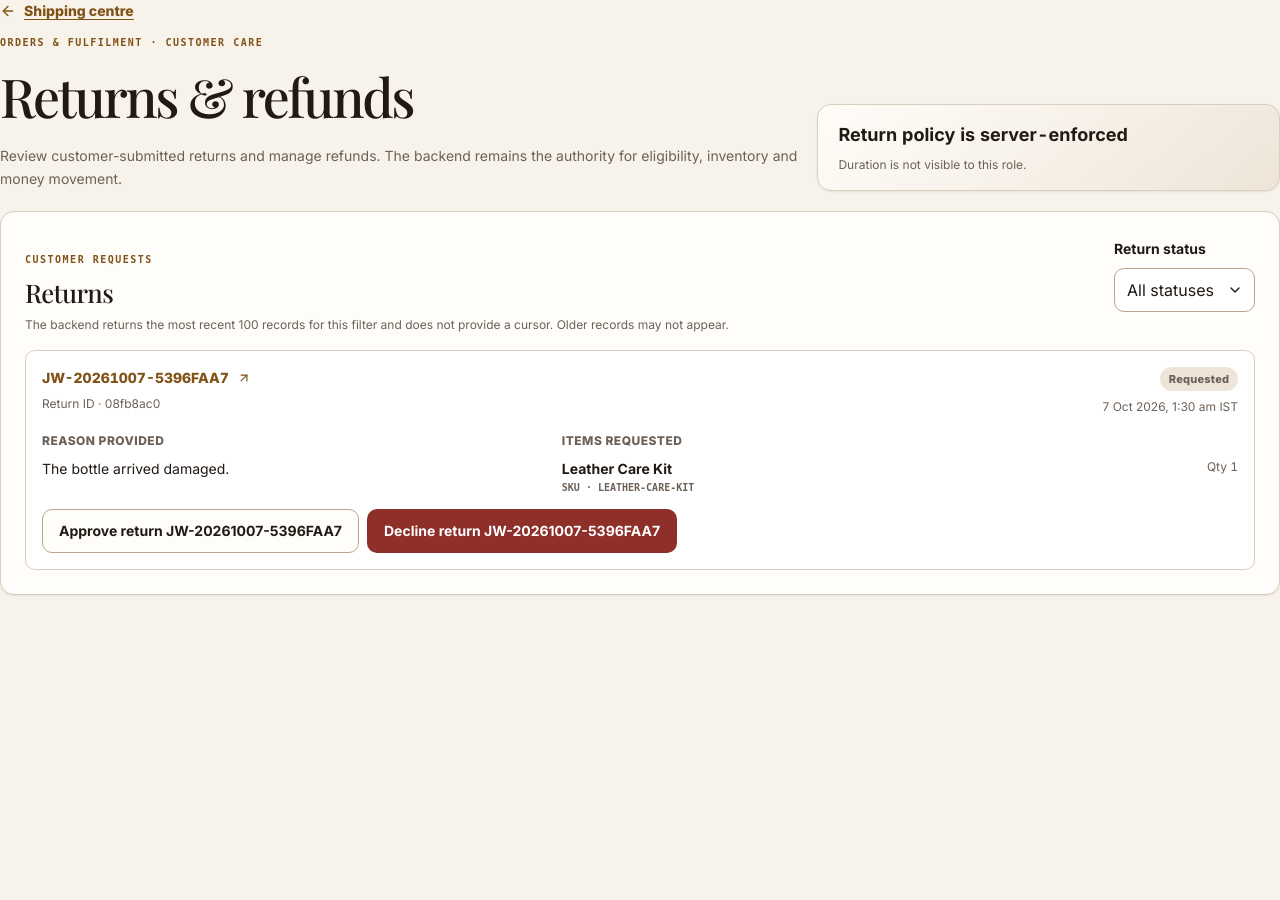
Test case: returns and refunds centre › requires a decision note, records approval once, then refreshes the authoritative list
Step 1. Click the button "Approve return JW-20261007-5396FAA7" → (200, 531), box [42, 509, 359, 553]
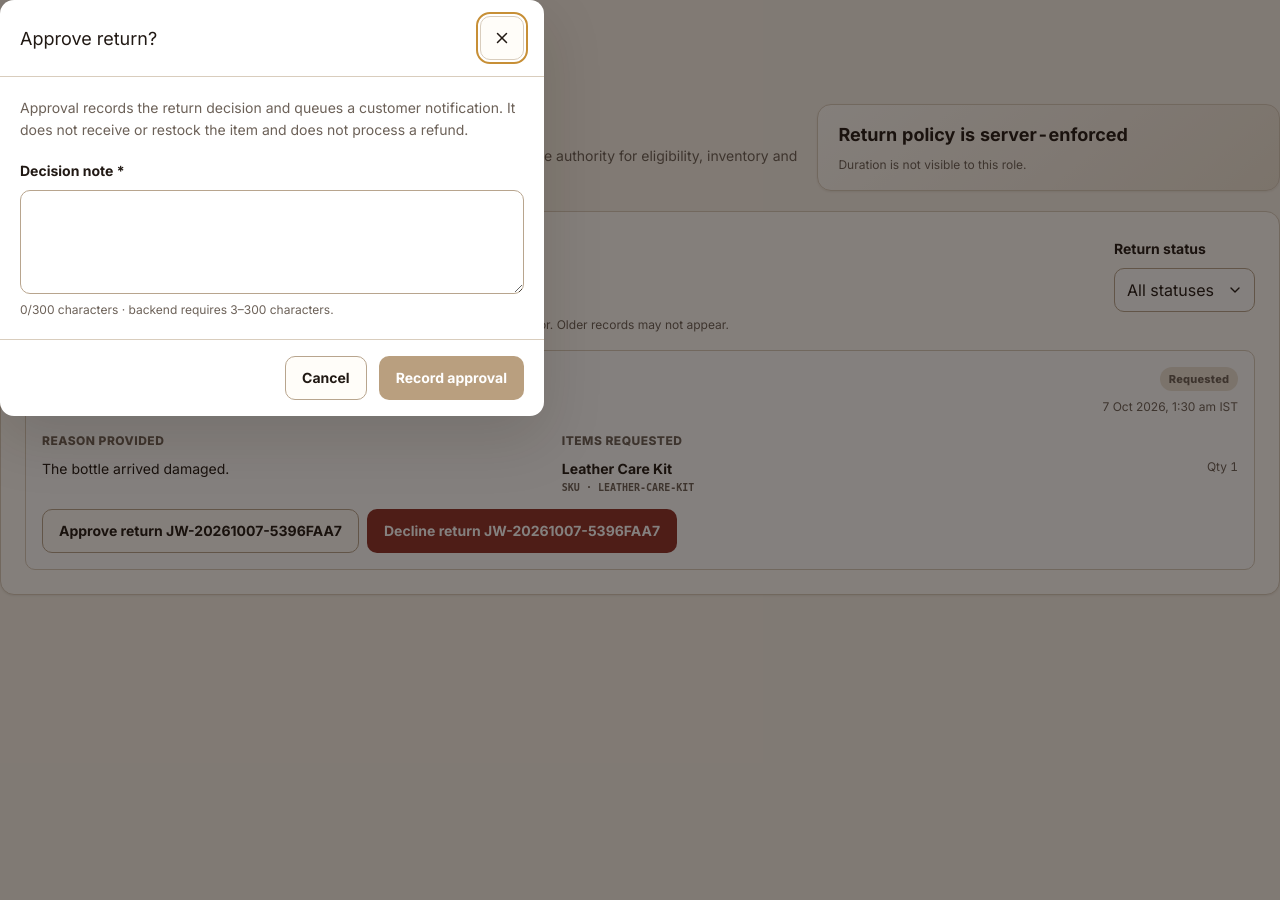
Expected: the text "does not receive or restock the item" is shown, [20, 99, 515, 138]
Expected: the button "Record approval" is disabled, [379, 356, 524, 400]
Step 2. Type "Inspection confirms the reported damage." into the text box labelled "Decision note *" → (272, 242), box [20, 190, 524, 294]
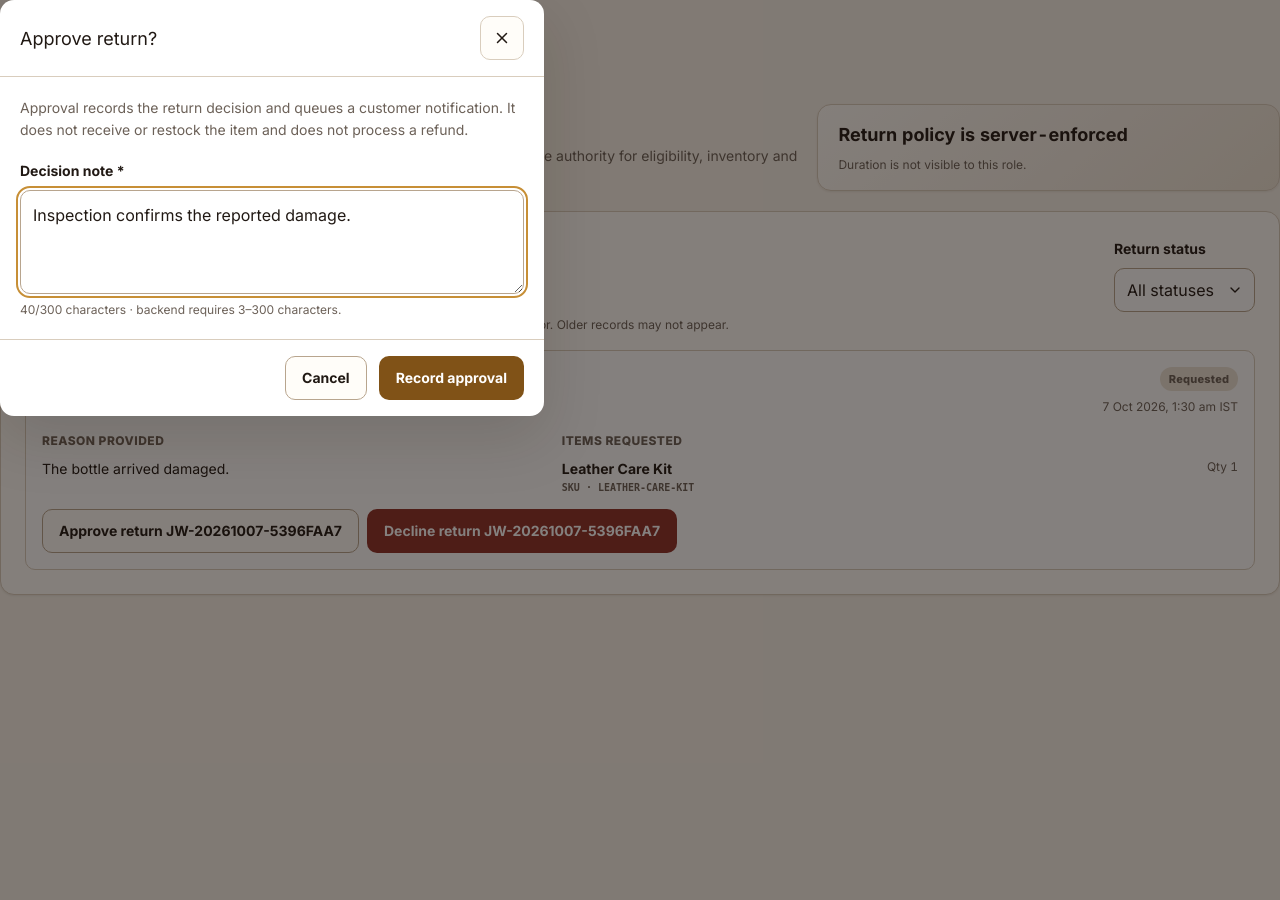
Expected: the button "Record approval" is enabled
Step 3. Click the button "Record approval" → (451, 378), box [379, 356, 524, 400]
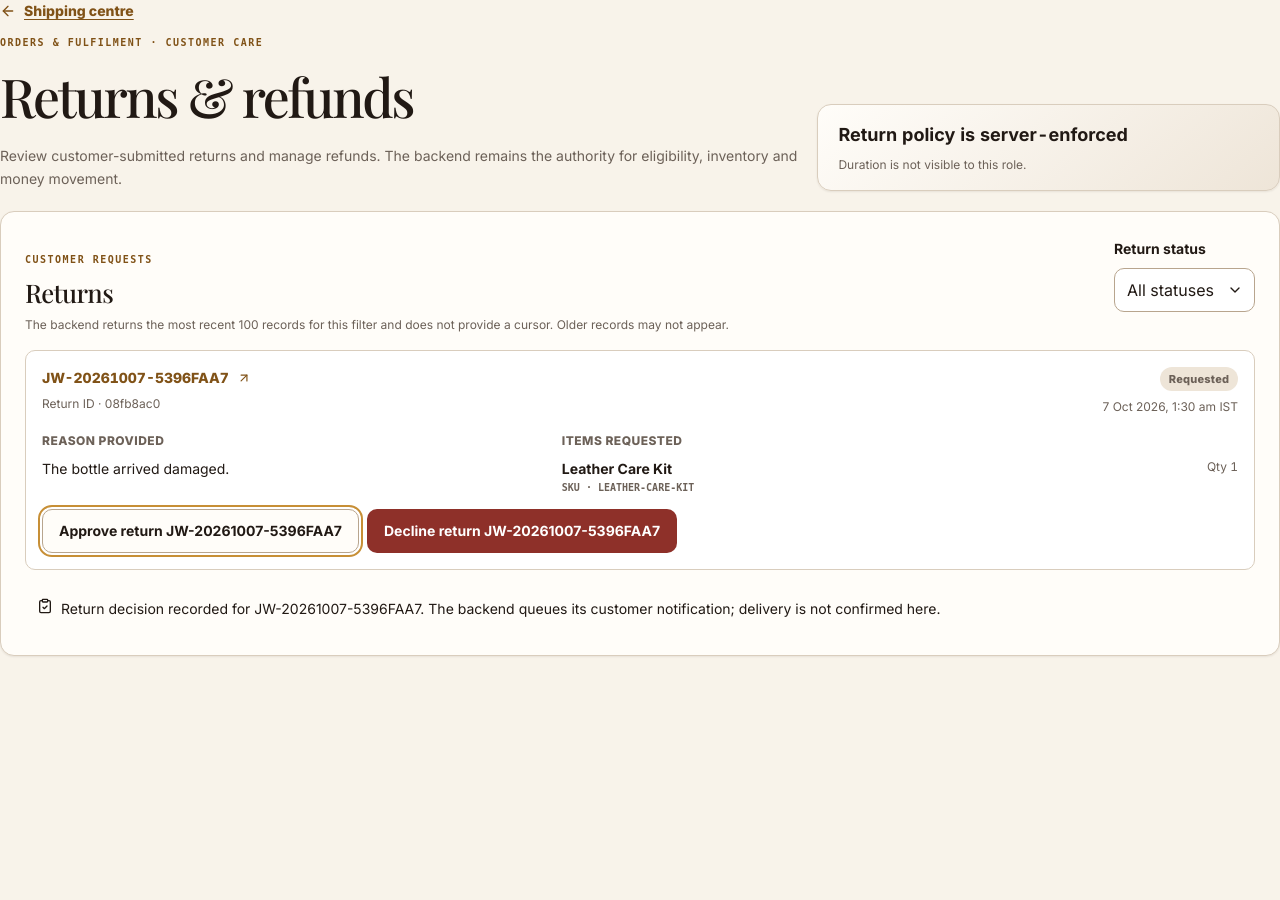
Expected: the message shows "decision recorded", [61, 600, 940, 617]
